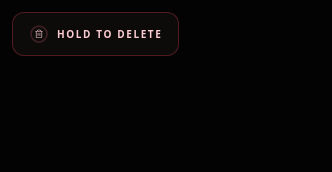
Test case: KokonutUI Obsidian Pack (8 components) › HoldButton cancels on early release and confirms after full hold duration (mouse & keyboard)
Later steps or results of the test are not shown.
Press the mouse on the button at x=96, y=34, box [12, 12, 180, 56]
Press the mouse on the button at x=96, y=34, box [12, 12, 180, 56]
Wait 600 ms
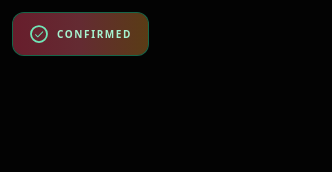
Now the button reads "Confirmed", box [12, 12, 149, 56]
